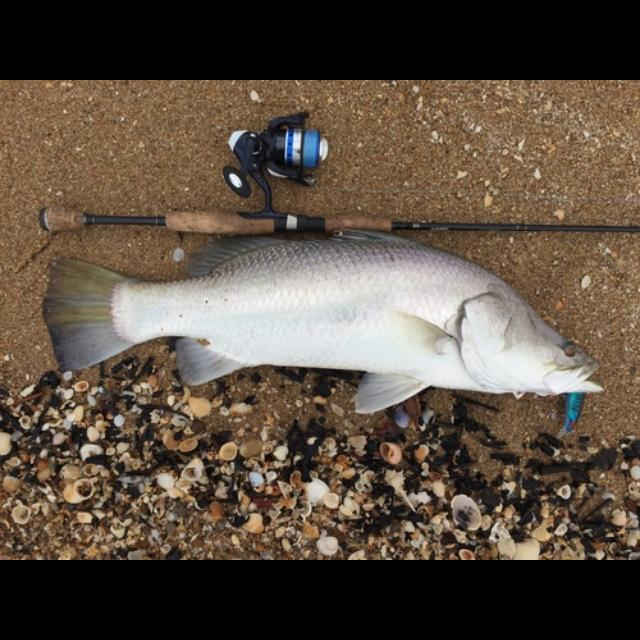Seabass: (41, 228, 598, 414)
